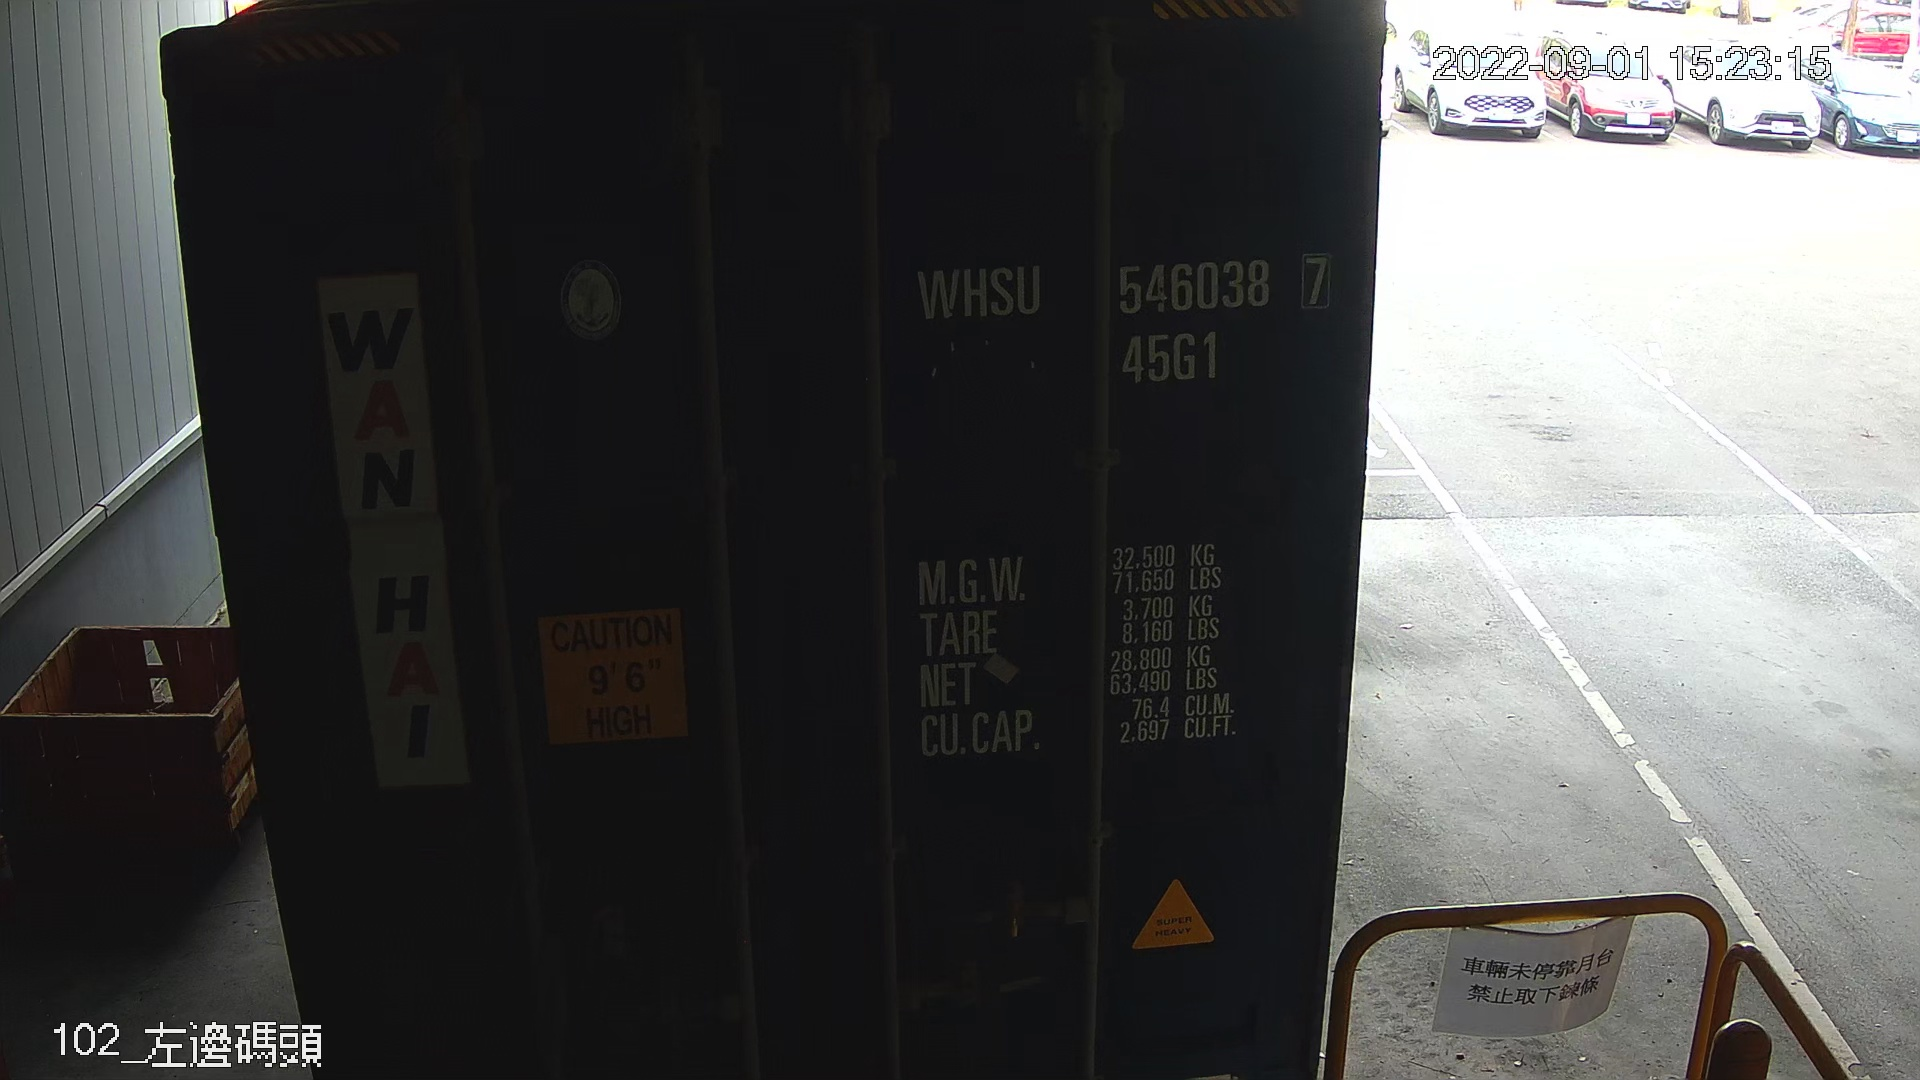container: (901, 241, 1346, 397)
